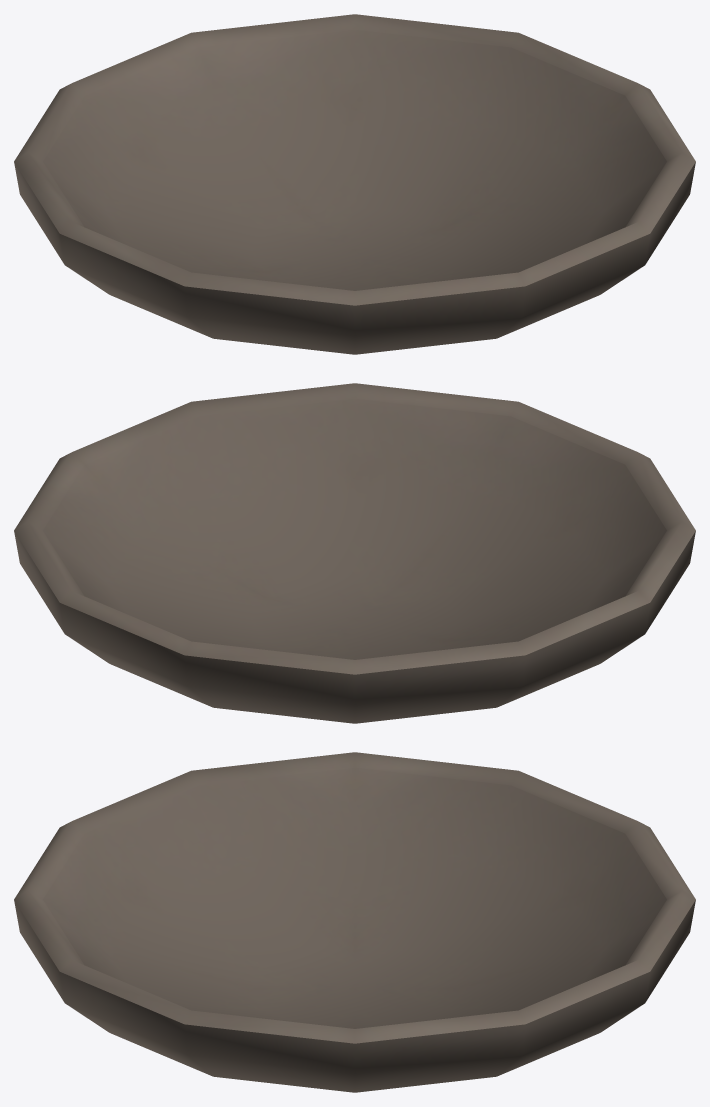
Rendered from WideBowl.fbx.
The picture shows the model from 3 angles, top to bottom: view 1: azimuth 30°, elevation 25°; view 2: azimuth 150°, elevation 25°; view 3: azimuth 270°, elevation 25°; orthographic projection.
Visible parts, largest first — view 1: DinnerScene:WideBowl1; view 2: DinnerScene:WideBowl1; view 3: DinnerScene:WideBowl1.
Part boxes in pixels (x1,y1,x2,y2): DinnerScene:WideBowl1: (14,14,695,354); DinnerScene:WideBowl1: (14,383,695,723); DinnerScene:WideBowl1: (14,752,695,1092).
Size of the model in its own units: 4.89 by 0.9936 by 4.89.
